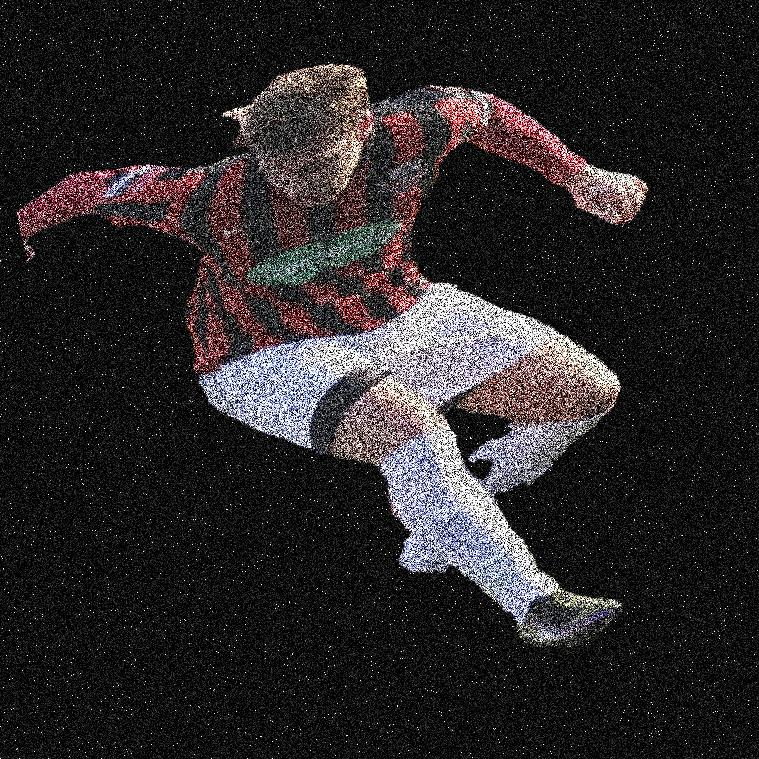Pessoa: (378, 0, 522, 758)
